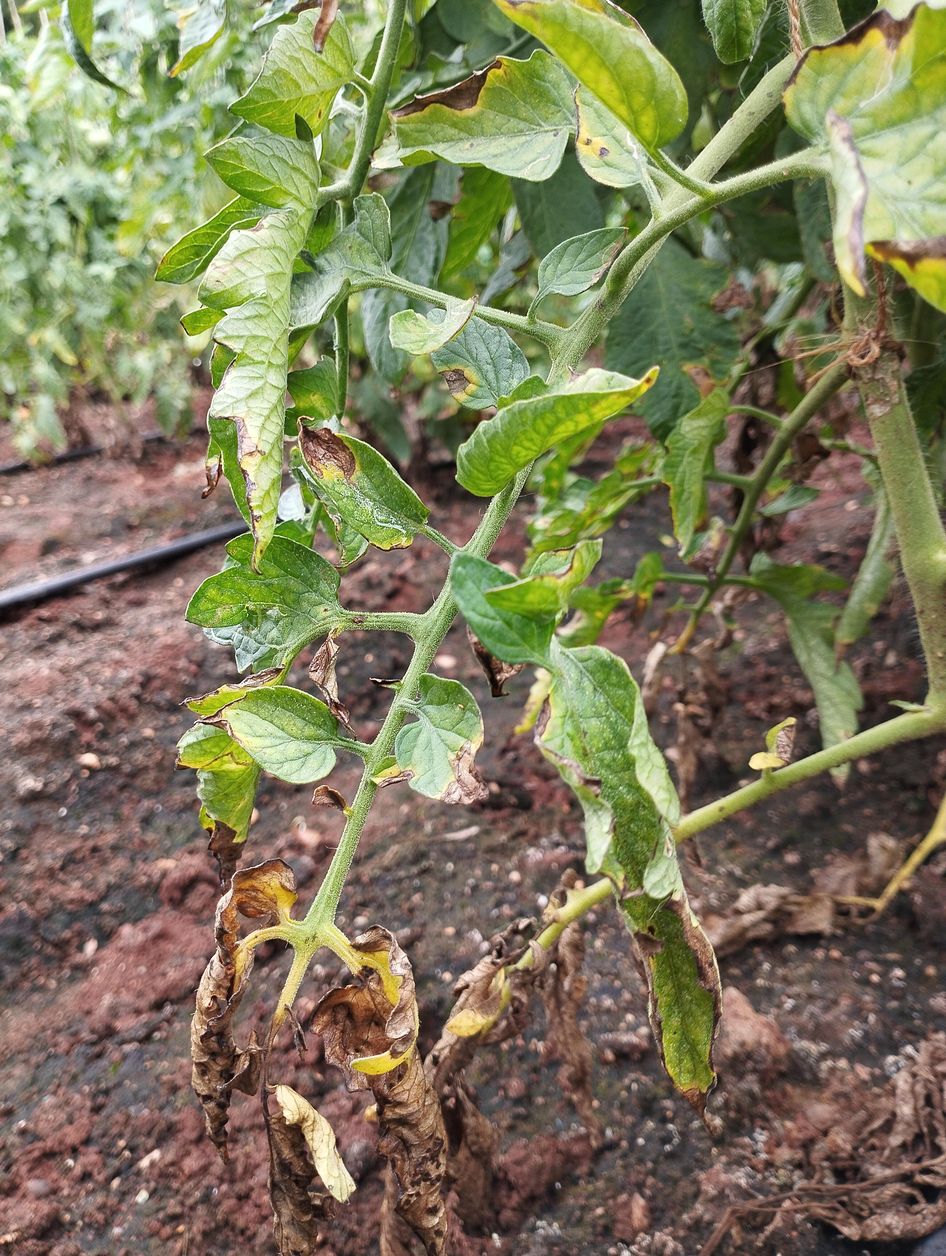Early Blight: (527, 646, 738, 1144), (173, 655, 287, 904), (289, 414, 433, 558), (391, 672, 506, 812), (430, 297, 532, 414)
